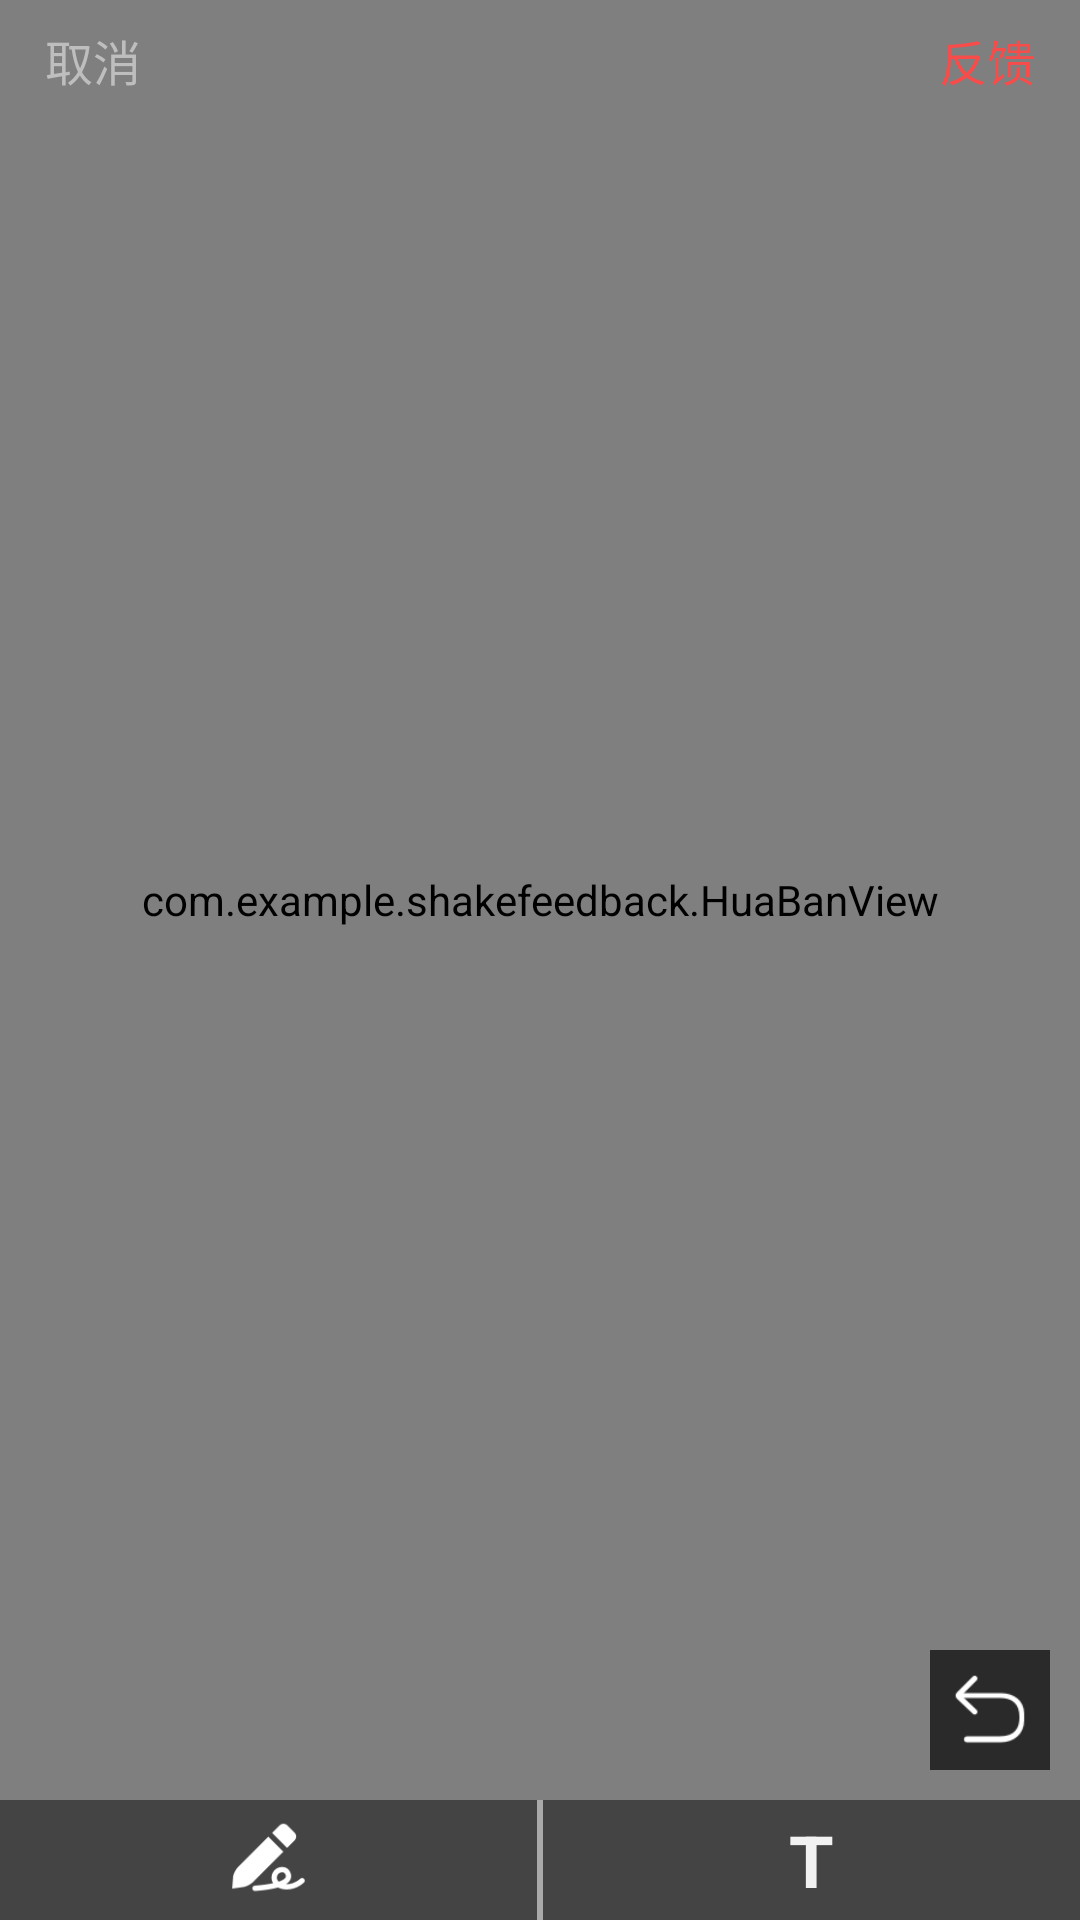

Where icons sit on this 1080w x 1920h app screen, as (x1, y1, x2, y2):
undo: (930, 1650, 1050, 1770)
